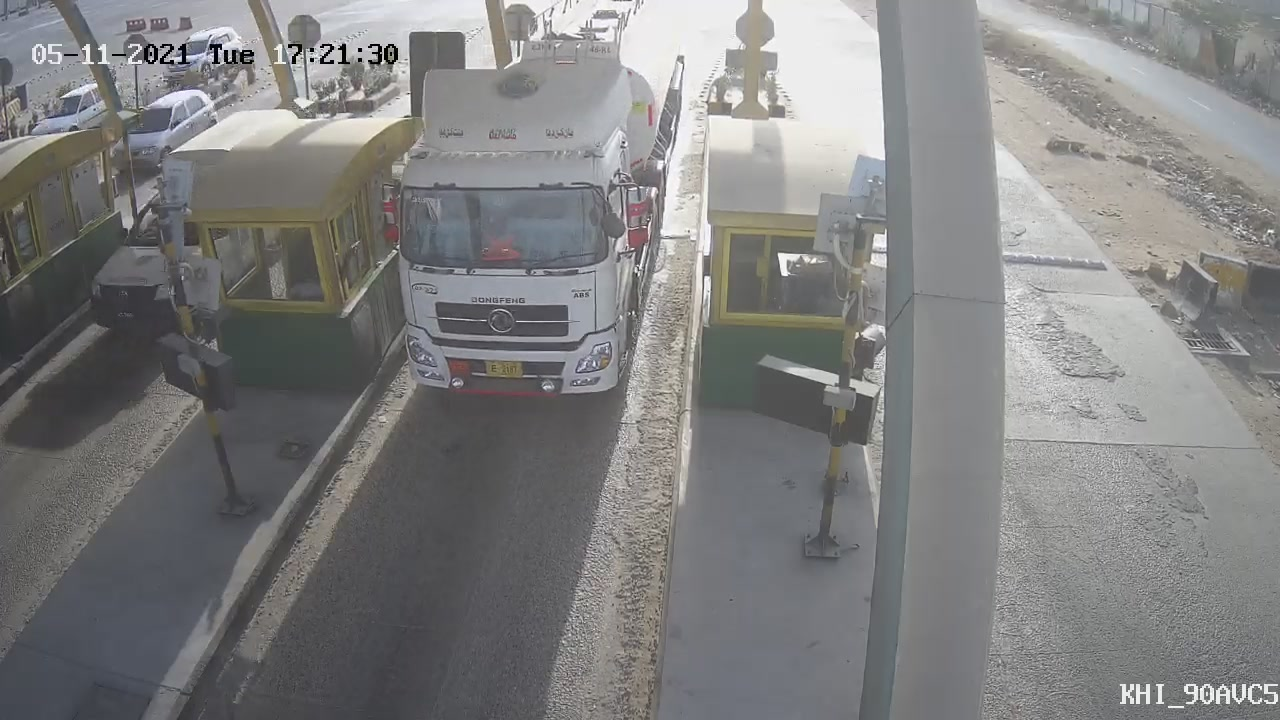F6: (356, 1, 705, 421)
